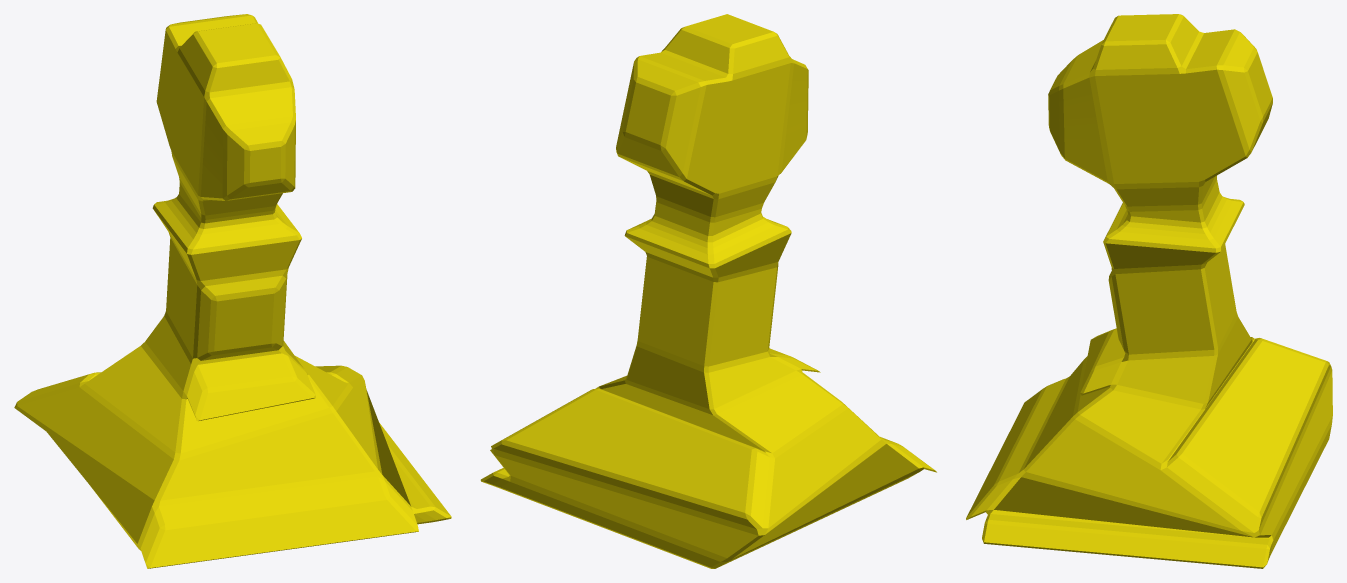
Rendered from Circe.fbx.
3 views of the same model, side by side, from view 1: azimuth 30°, elevation 25°; view 2: azimuth 150°, elevation 25°; view 3: azimuth 270°, elevation 25° (orthographic).
Visible parts, largest first — view 1: Circe; view 2: Circe; view 3: Circe.
Part boxes in pixels (x1,y1,x2,y2): Circe: [14, 14, 451, 568]; Circe: [480, 14, 936, 568]; Circe: [966, 14, 1332, 568].
Bounding box in the file's own units: 809 × 1048 × 767.
